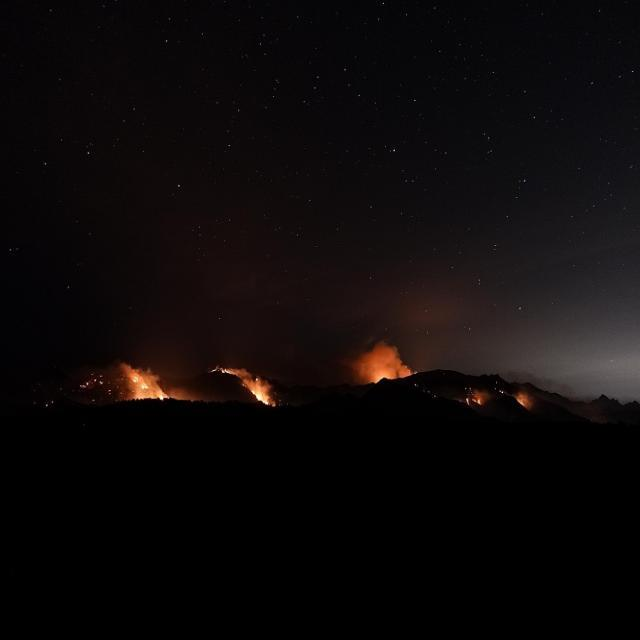Fire: (252, 388, 272, 407), (130, 376, 140, 384), (140, 382, 150, 390), (157, 390, 165, 400), (473, 396, 483, 404)
